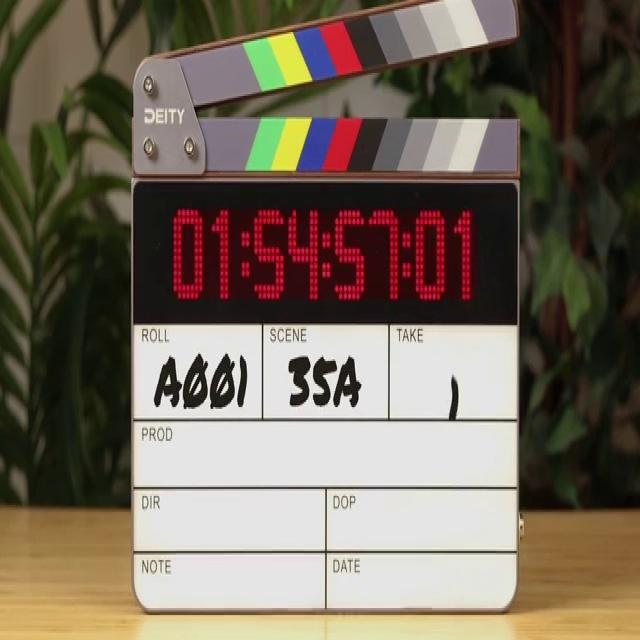Clapperboard: (132, 0, 524, 617)
